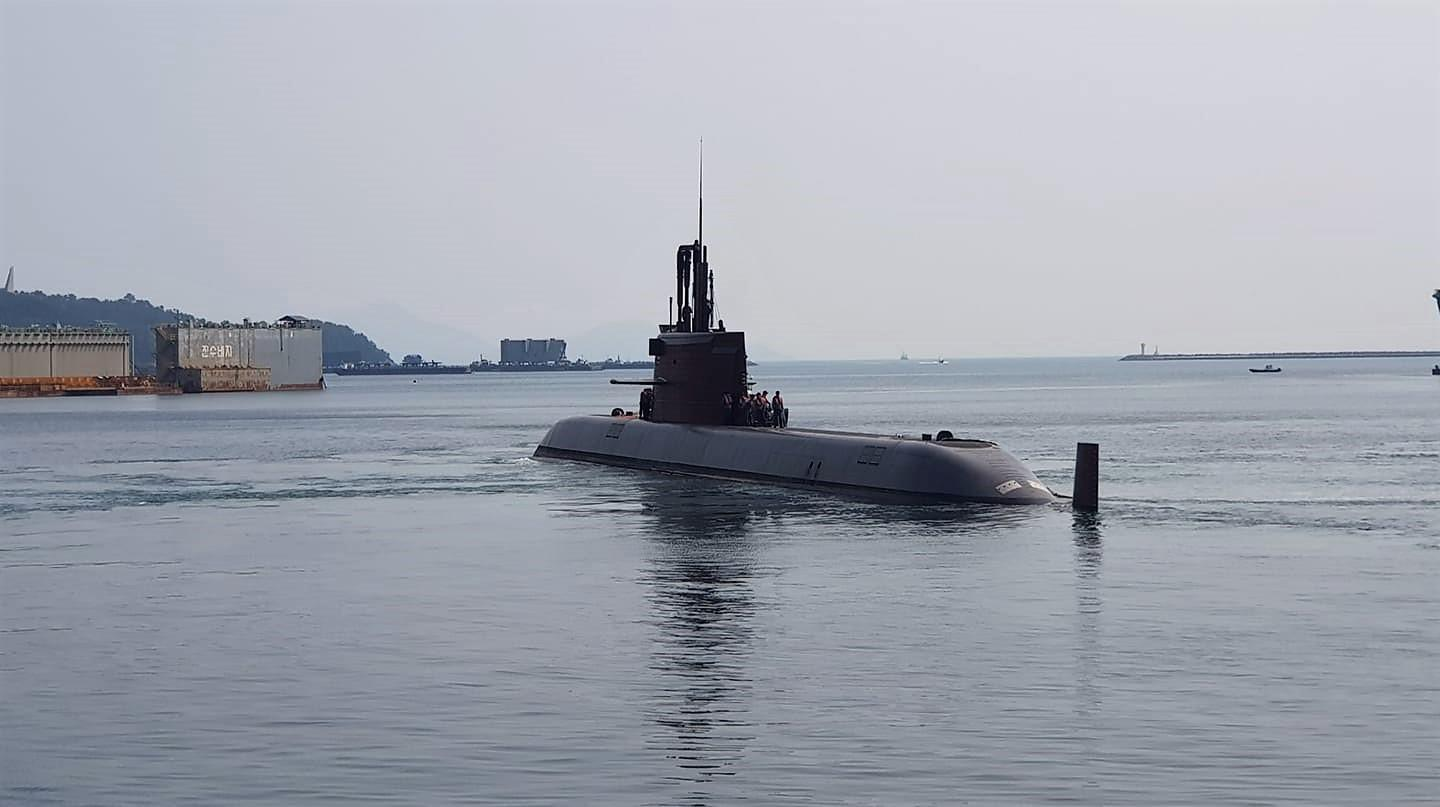Submarine: (458, 196, 1226, 628)
